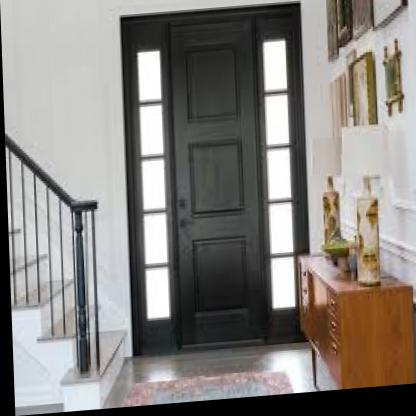door: (166, 18, 266, 346)
